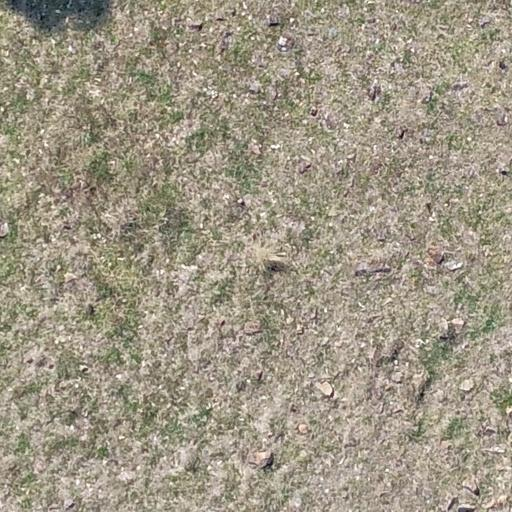stone: (353, 260, 391, 278), (444, 317, 465, 337), (415, 85, 435, 105), (250, 451, 274, 467), (426, 245, 445, 265), (388, 58, 408, 77), (320, 111, 338, 132), (218, 31, 234, 54), (342, 429, 360, 449), (276, 34, 296, 52), (411, 370, 427, 392), (460, 480, 480, 497), (243, 320, 263, 336), (181, 314, 197, 332), (174, 284, 192, 300), (276, 67, 295, 82), (368, 83, 382, 103), (316, 381, 332, 398), (496, 160, 512, 177), (436, 317, 450, 335), (482, 496, 499, 510), (459, 378, 475, 392), (265, 14, 281, 28), (367, 346, 379, 364), (451, 80, 469, 92), (455, 502, 475, 512), (480, 425, 498, 436), (248, 81, 262, 95), (298, 160, 312, 174), (478, 14, 492, 28), (444, 197, 460, 209), (63, 272, 79, 284), (390, 370, 404, 383), (439, 439, 453, 452), (186, 19, 200, 32), (248, 143, 262, 156), (0, 221, 10, 238), (446, 497, 458, 511), (345, 151, 357, 165), (486, 446, 506, 454), (496, 114, 508, 127), (64, 499, 76, 511), (296, 423, 308, 435), (48, 502, 63, 511), (61, 220, 72, 230), (295, 324, 305, 335), (378, 490, 390, 499), (320, 336, 330, 346), (392, 407, 404, 415), (256, 370, 264, 382), (78, 364, 90, 372), (376, 234, 386, 242), (290, 403, 298, 413), (25, 356, 34, 364)
